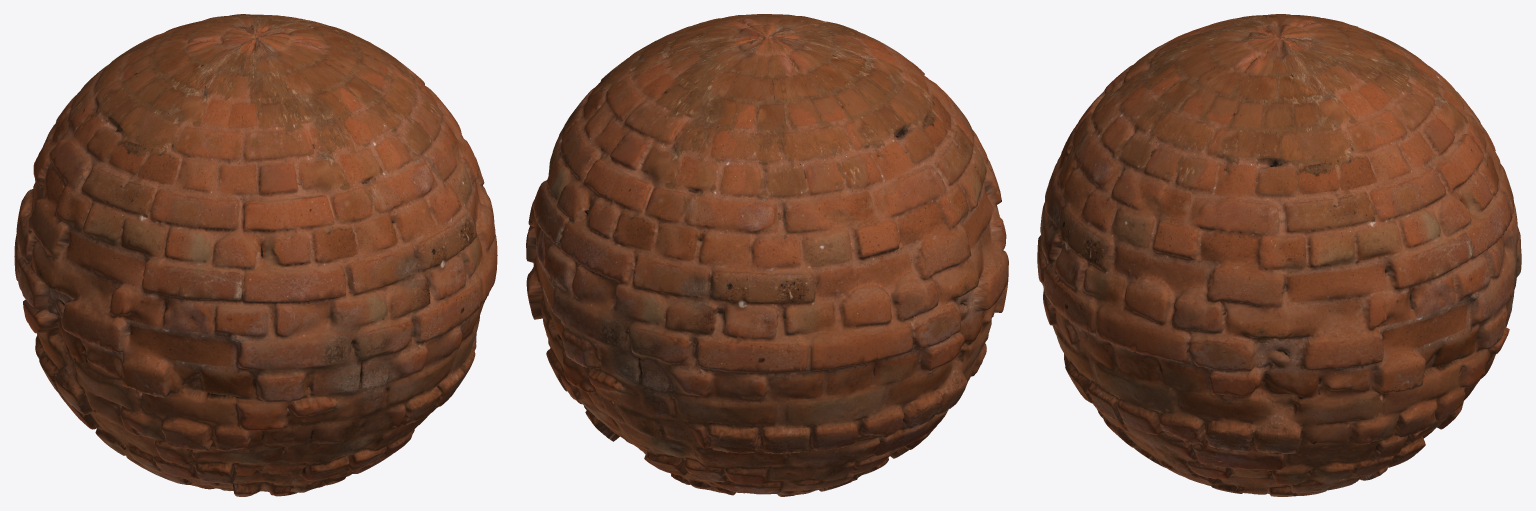
File: broken_brick_wall_2k.gltf
3 renders of one model, left to right at view 1: azimuth 30°, elevation 25°; view 2: azimuth 150°, elevation 25°; view 3: azimuth 270°, elevation 25°, orthographic.
Parts seen in each view (by area): view 1: sphere_gltf; view 2: sphere_gltf; view 3: sphere_gltf.
Part boxes in pixels (x1,y1,x2,y2): sphere_gltf: (14,14,497,496); sphere_gltf: (526,14,1008,496); sphere_gltf: (1037,14,1521,496).
Size of the model in its own units: 1.88 by 1.88 by 1.89.
1 material, 1 textured.
